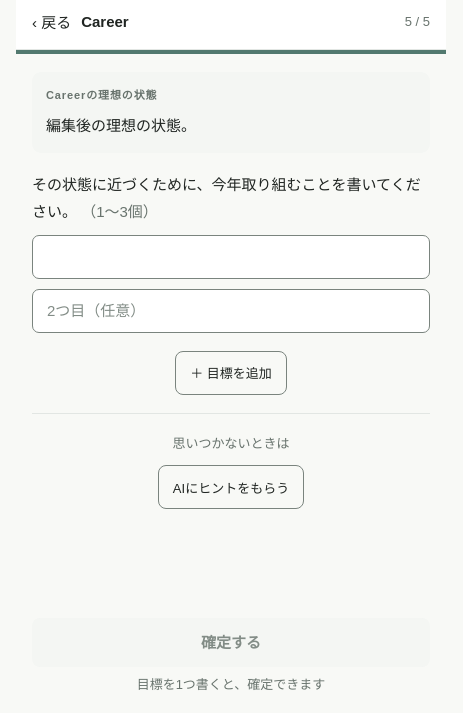
Test: S-56 › 確定に失敗したらエラー文言を表示し、入力は消えない
This screenshot has width=463, height=713.
Type "職務経歴書を書き上げる" into the 1st field with class "s56__input" at (231, 257), box [32,235,430,279]
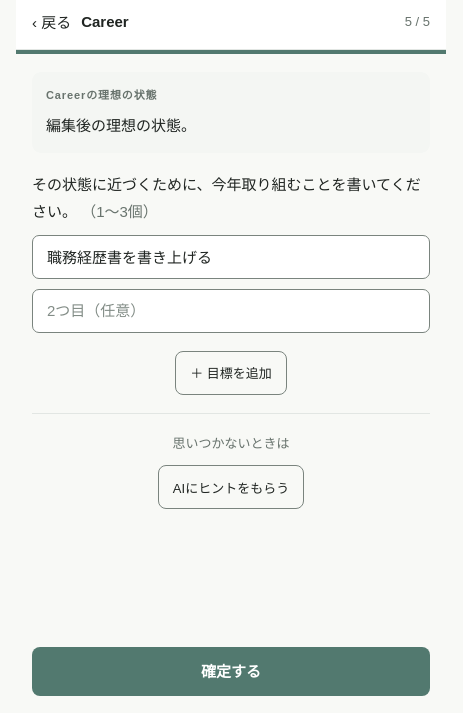
Click the button "確定する" at (231, 672), box [32,647,430,696]
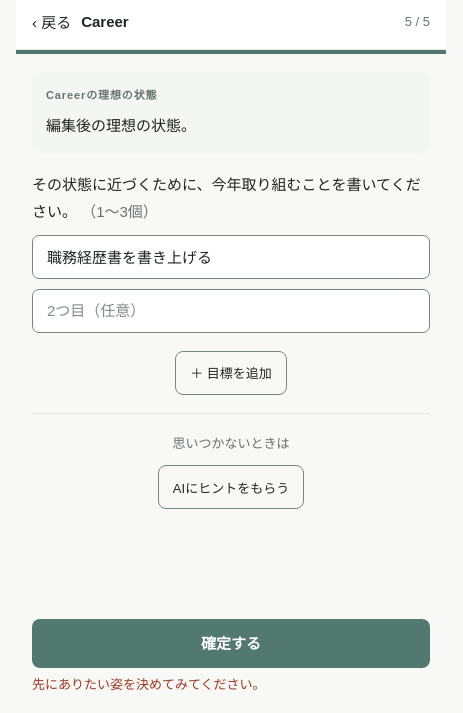
Expected: the text "先にありたい姿を決めてみてください。" is shown, [32,677,266,692]
